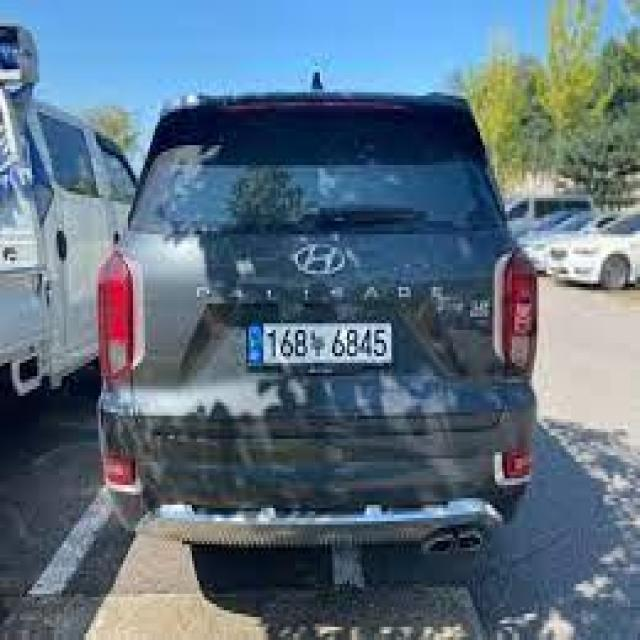car: (89, 63, 548, 583)
illegal_plate: (252, 318, 390, 371)
